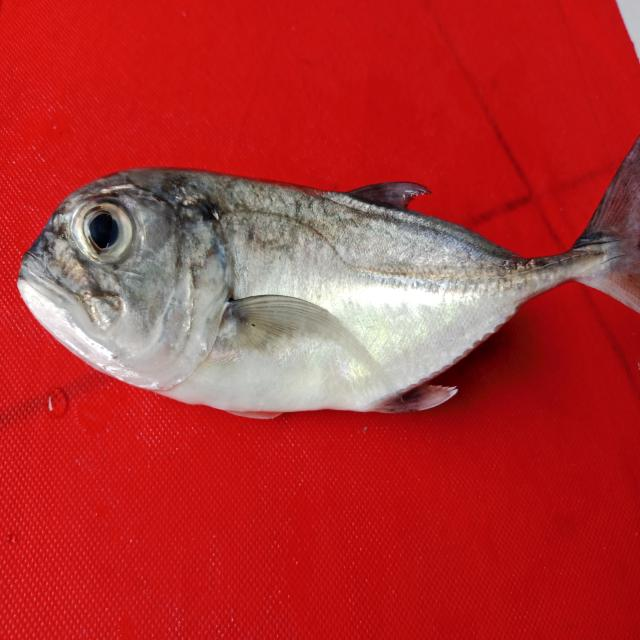ikan: (14, 119, 628, 442)
